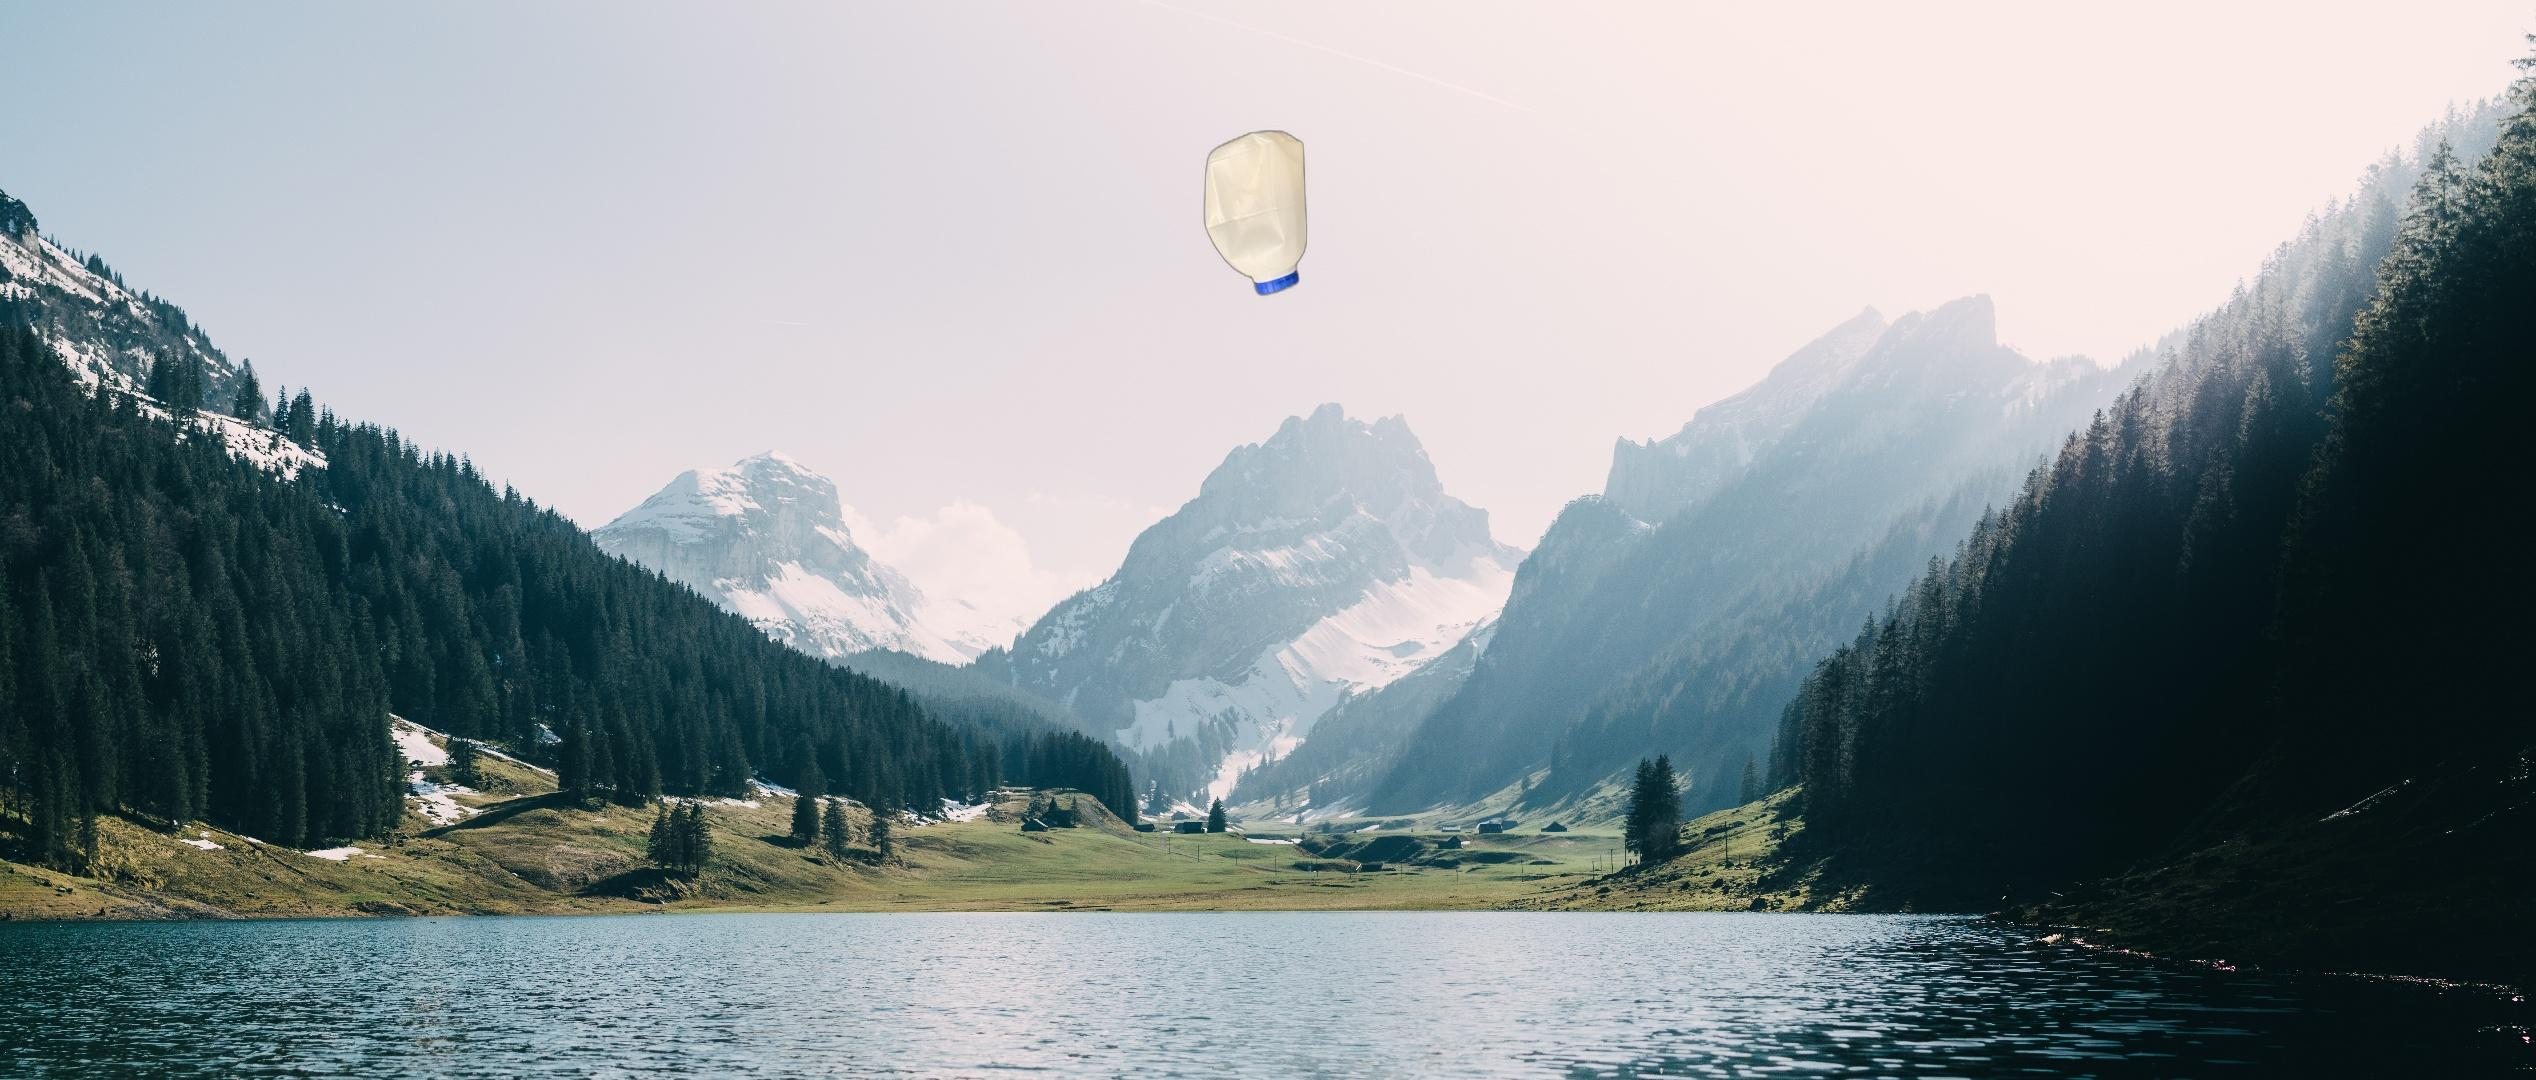plastic-bottles: (1200, 126, 1312, 302)
